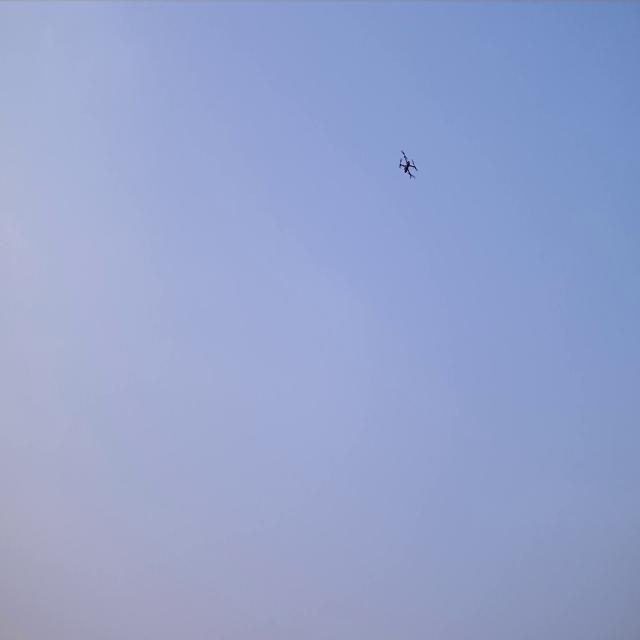UAV: (399, 152, 416, 178)
